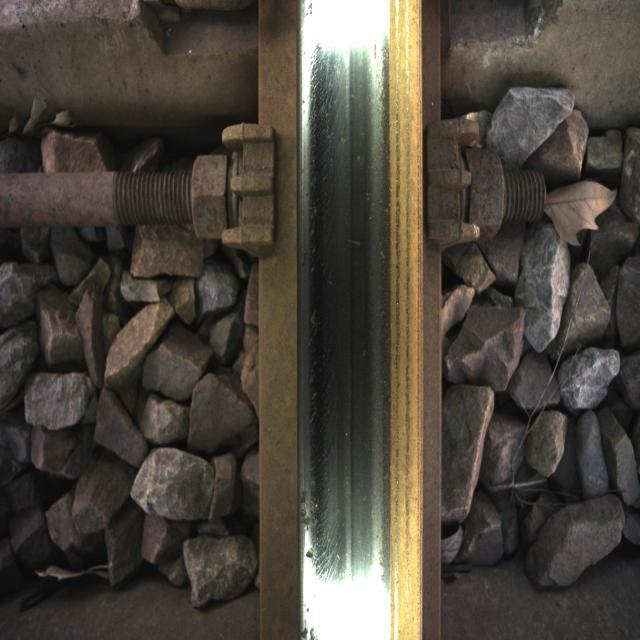normal: (300, 42, 378, 582)
